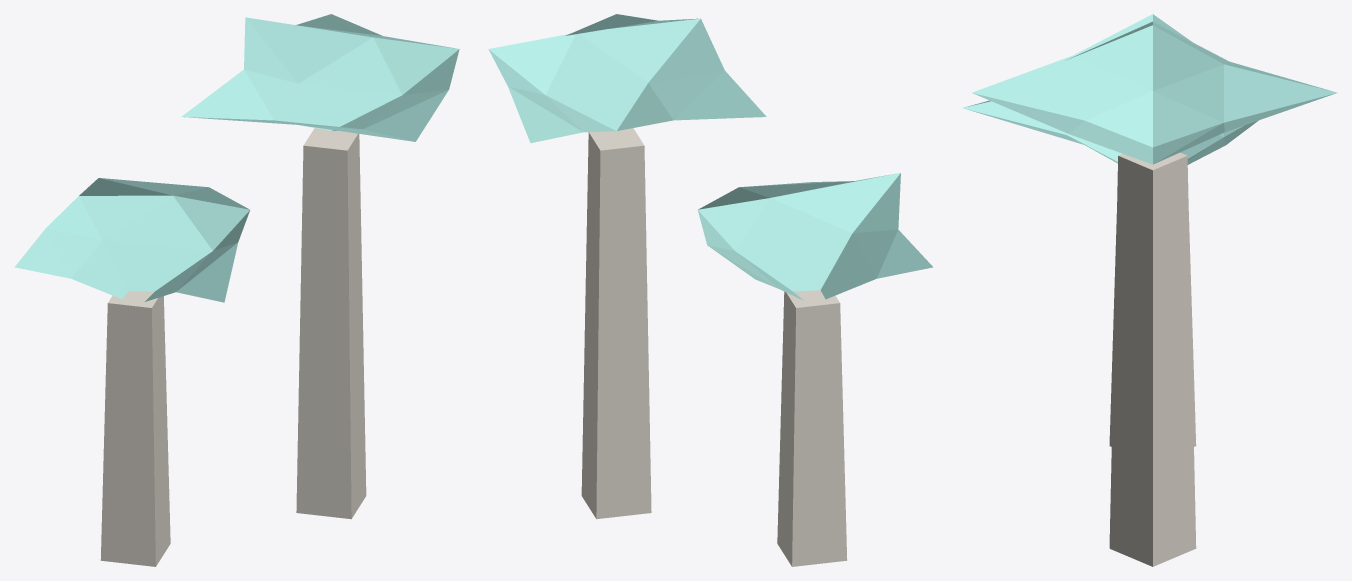
The model's file is glowcap_v12.glb.
The picture shows the model from 3 angles, left to right: view 1: azimuth 30°, elevation 25°; view 2: azimuth 150°, elevation 25°; view 3: azimuth 270°, elevation 25°; orthographic projection. The views are drawn at different scales.
Visible parts, largest first — view 1: lod0; view 2: lod0; view 3: lod0.
Part boxes in pixels (box(x1,y1,x2,y2)): lod0: box(15, 14, 459, 566); lod0: box(488, 14, 932, 566); lod0: box(962, 14, 1337, 566).
Size of what is drawn, in the model's own units: 0.3186 by 0.3353 by 0.2167.
